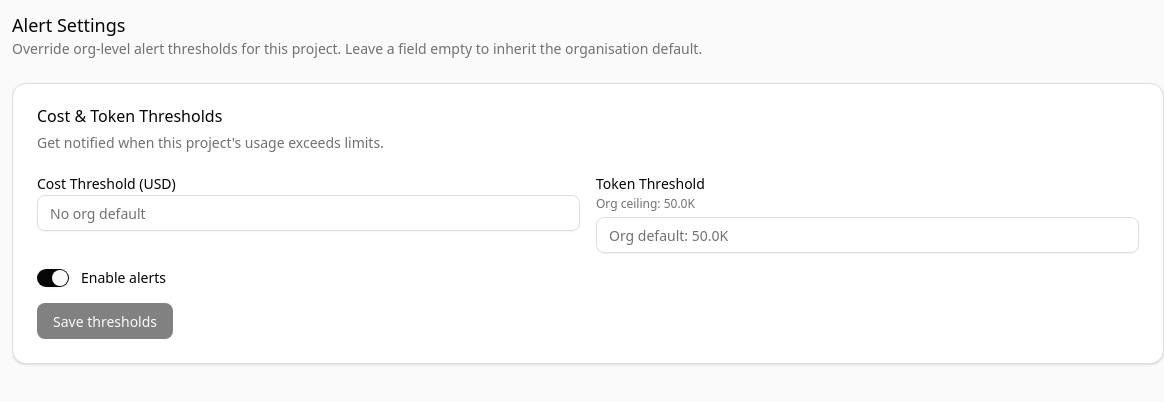
Scenario: ProjectAlertsSection › shows error when token exceeds org ceiling
This screenshot has width=1164, height=402.
Type "99999" into the number field labelled "Token Threshold".
click(868, 235); type("99999")  # box [596,217,1139,253]
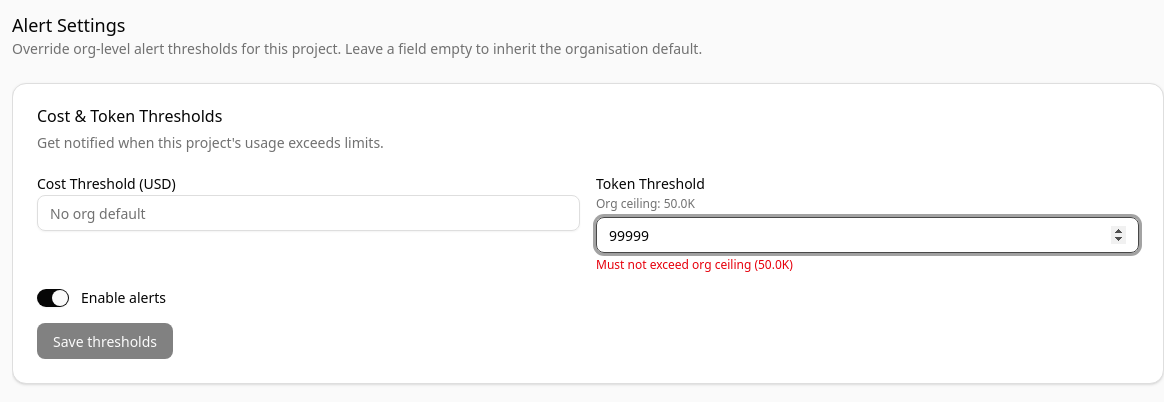
Expected: the text "Must not exceed org ceiling (50.0K)" is shown, [596,256,793,273]
